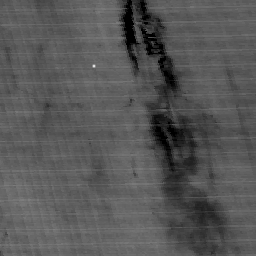Target: (90, 63, 98, 69)
